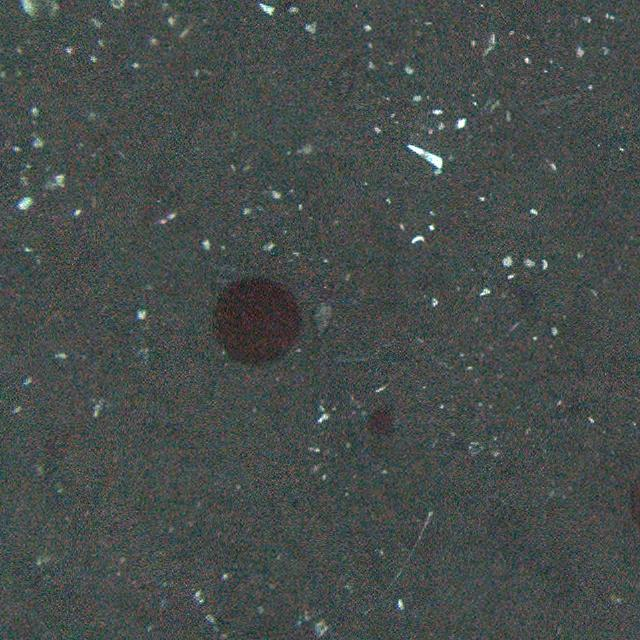whelk: (316, 299, 333, 335)
